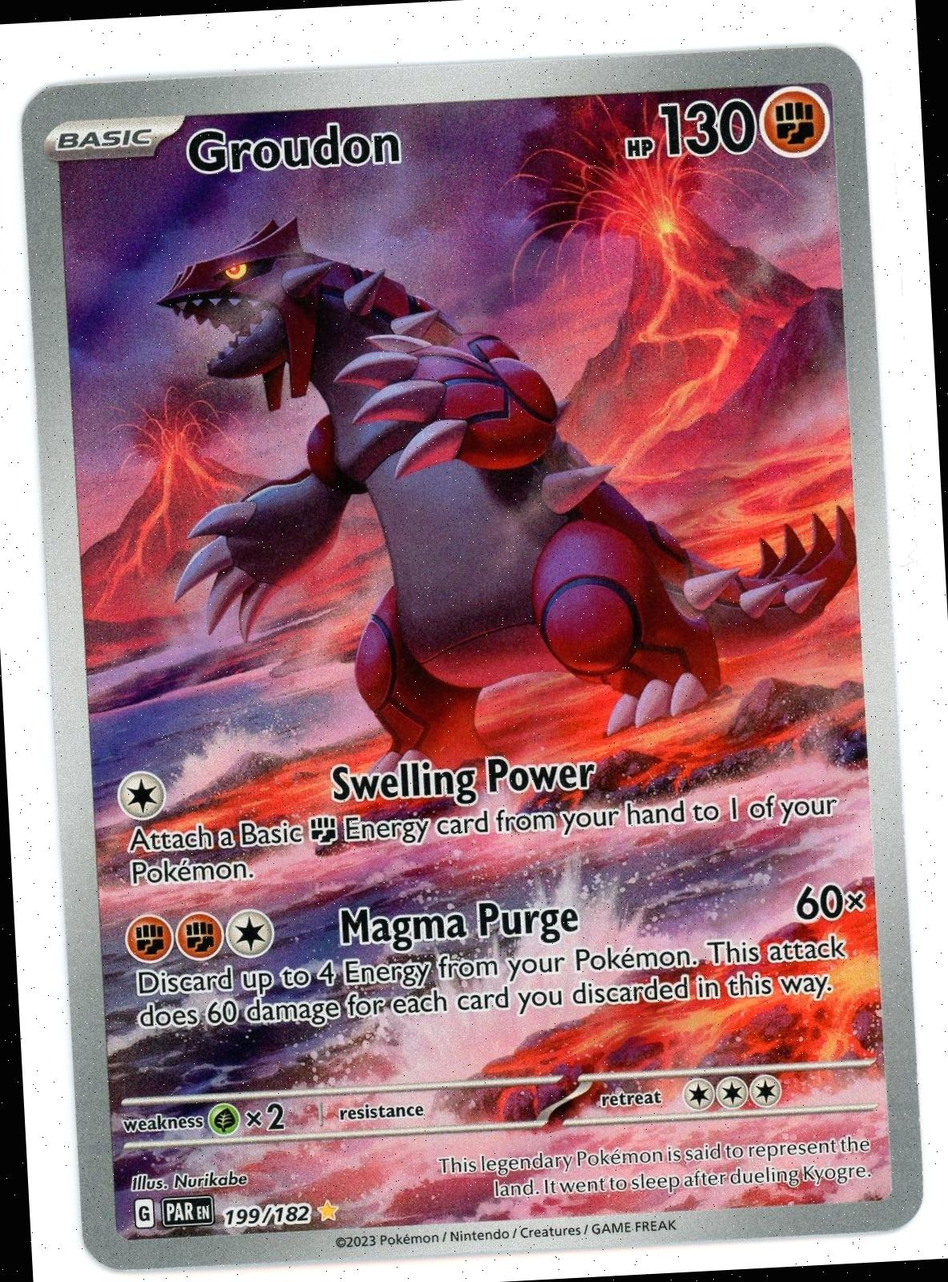card-2UtV: (21, 45, 923, 1270)
